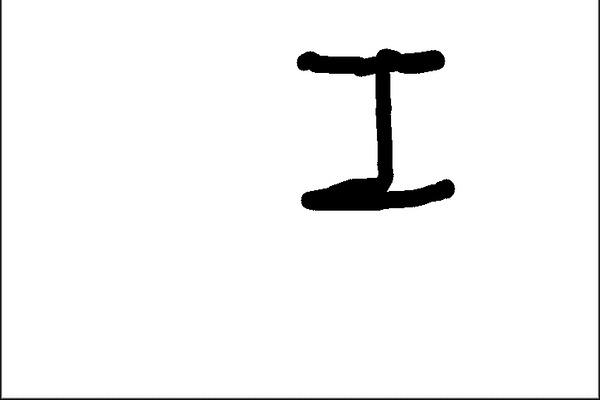i: (283, 42, 462, 215)
